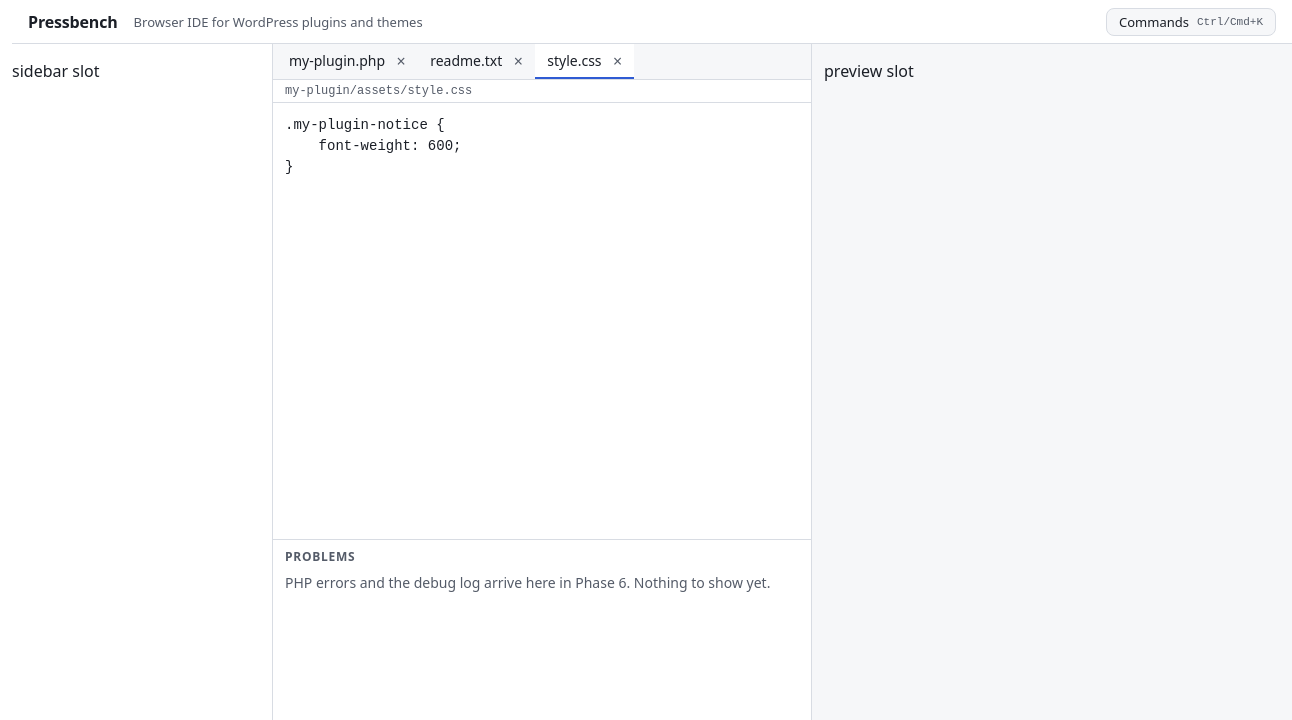
Test: Workspace › TC-WS-009 opens three tabs and Ctrl/Cmd+W closes the active one
Click the button "readme.txt".
click(462, 60)  # box [418,44,506,77]
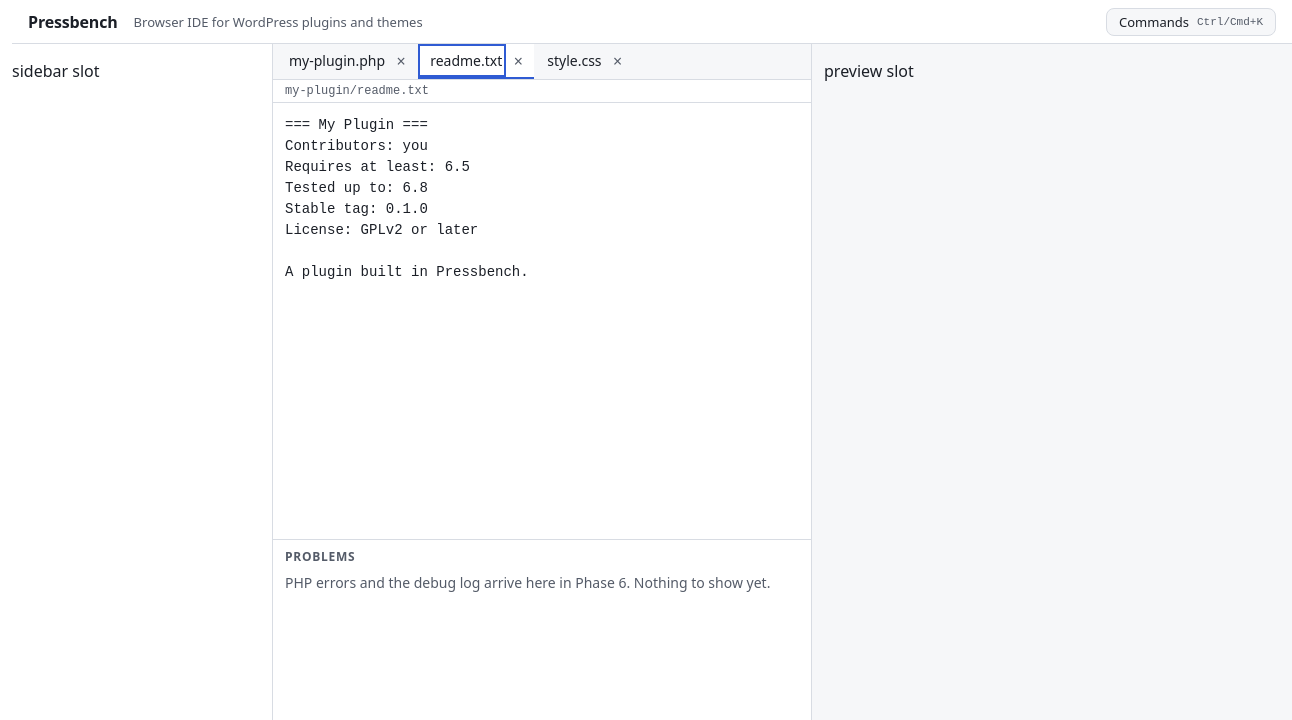
Type keys "{Control>}w{/Control}"
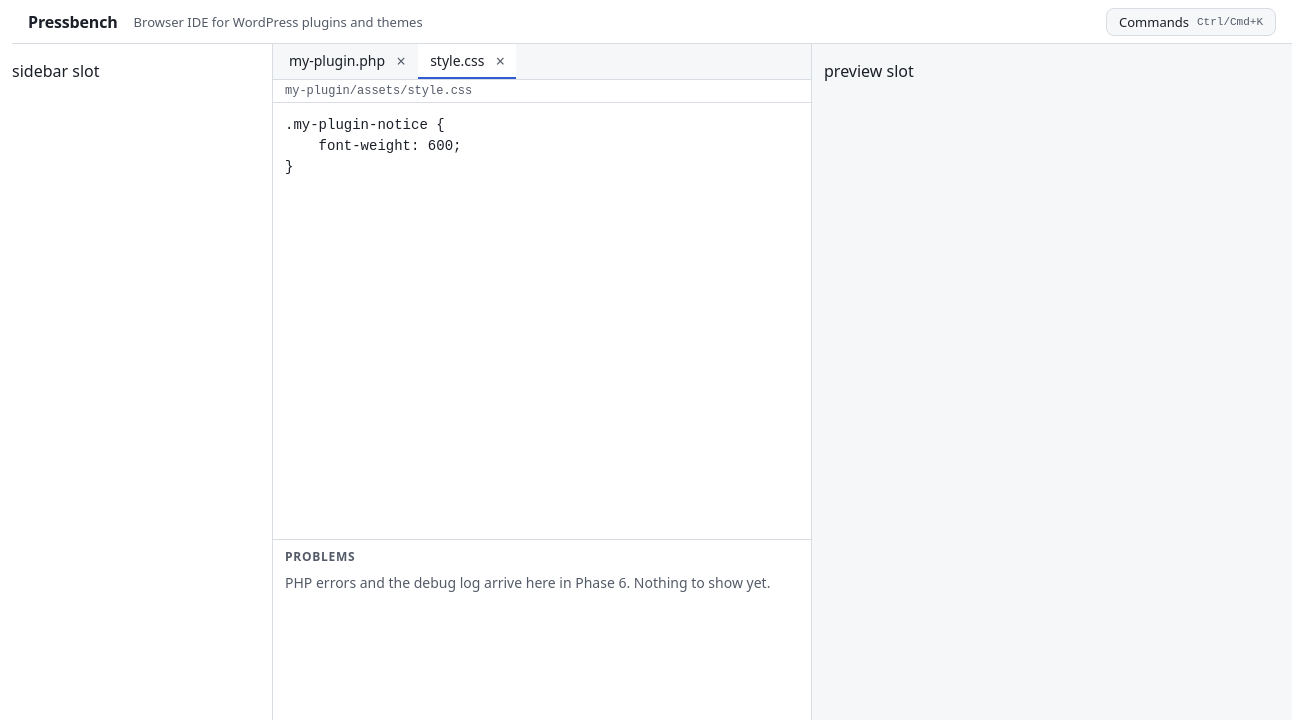
expect the number of list items is 2: met, box [277,44,417,79]; [418,44,516,79]
Type keys "{Meta>}w{/Meta}"
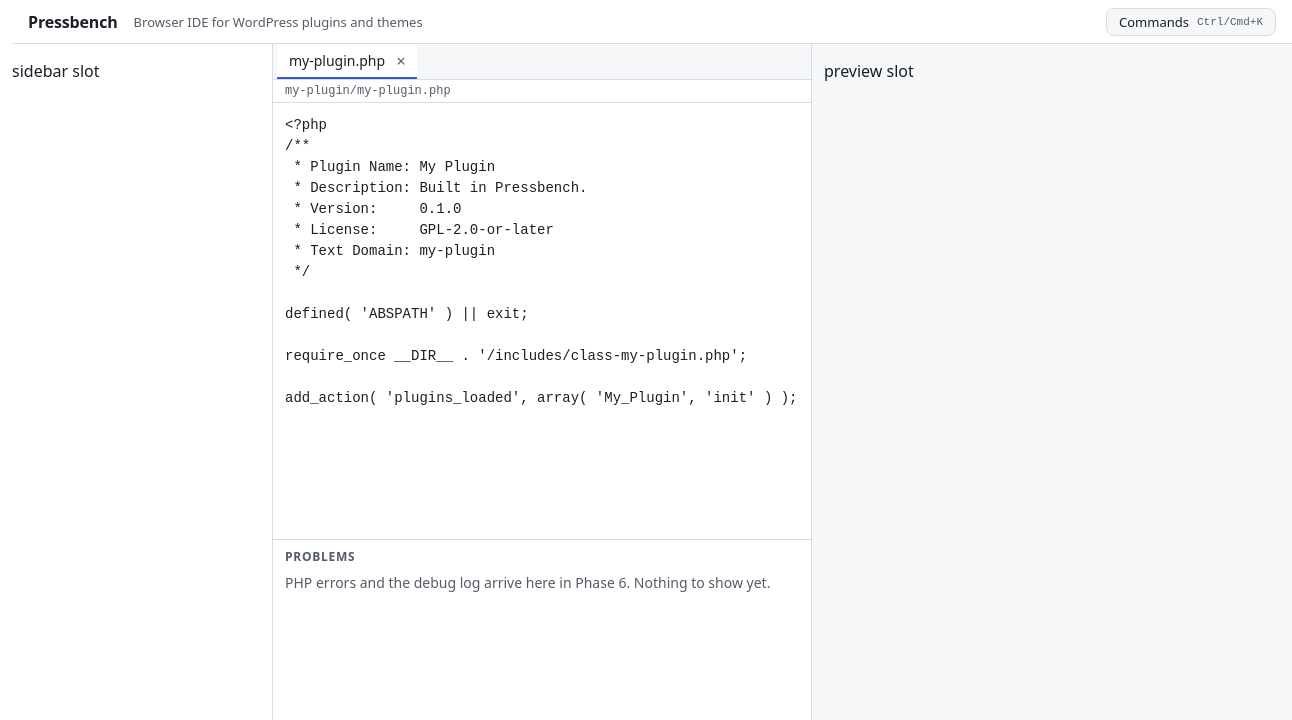
expect the number of list items is 1: met, box [277,44,417,79]
